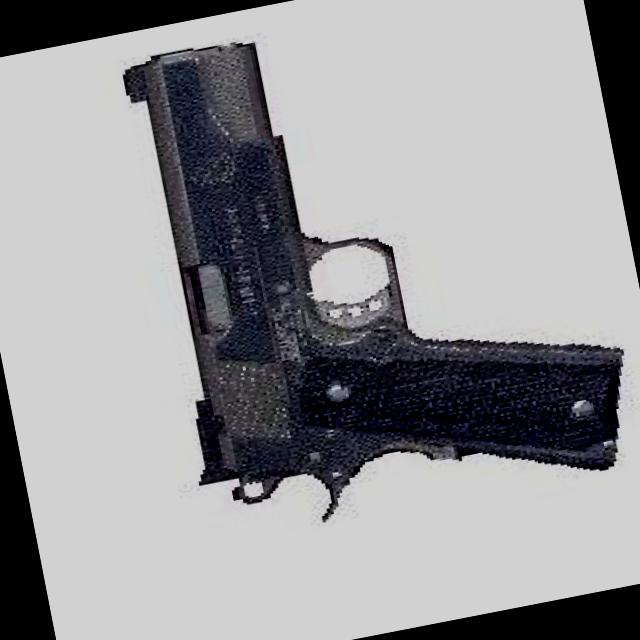handgun: (114, 0, 636, 559)
